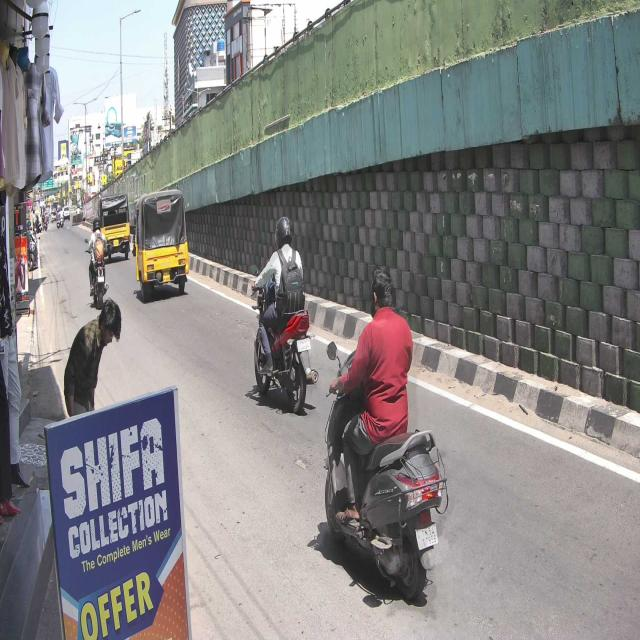single_rider: (324, 266, 446, 602), (251, 216, 319, 412)
